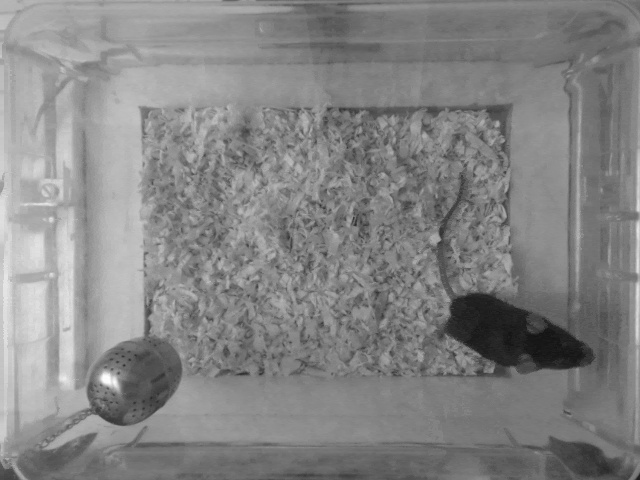mice: (435, 172, 595, 377)
